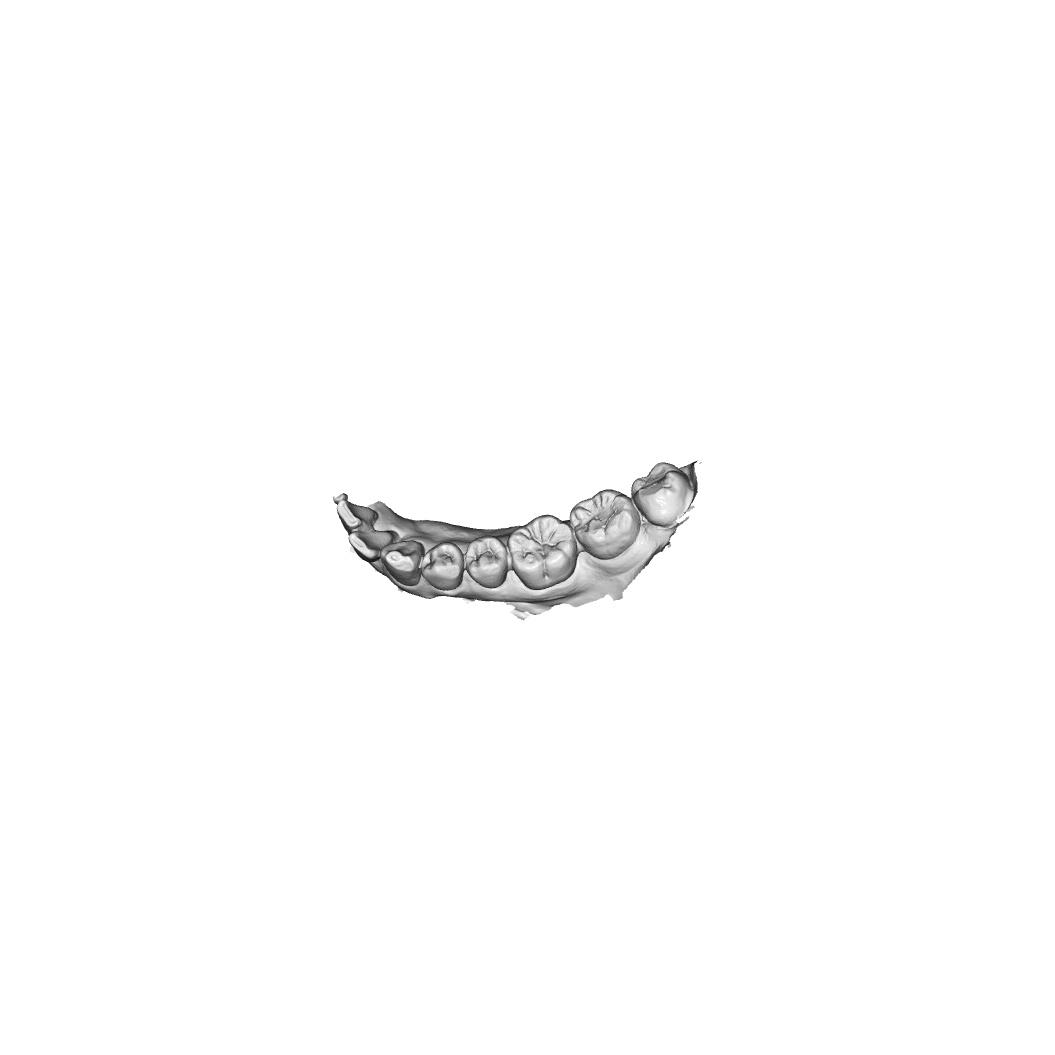canine: (380, 539, 425, 586)
incisor: (348, 529, 395, 563), (335, 499, 379, 535)
molar: (507, 513, 578, 591), (569, 488, 641, 561), (630, 460, 697, 529)
premolar: (464, 535, 509, 589), (420, 541, 465, 591)
